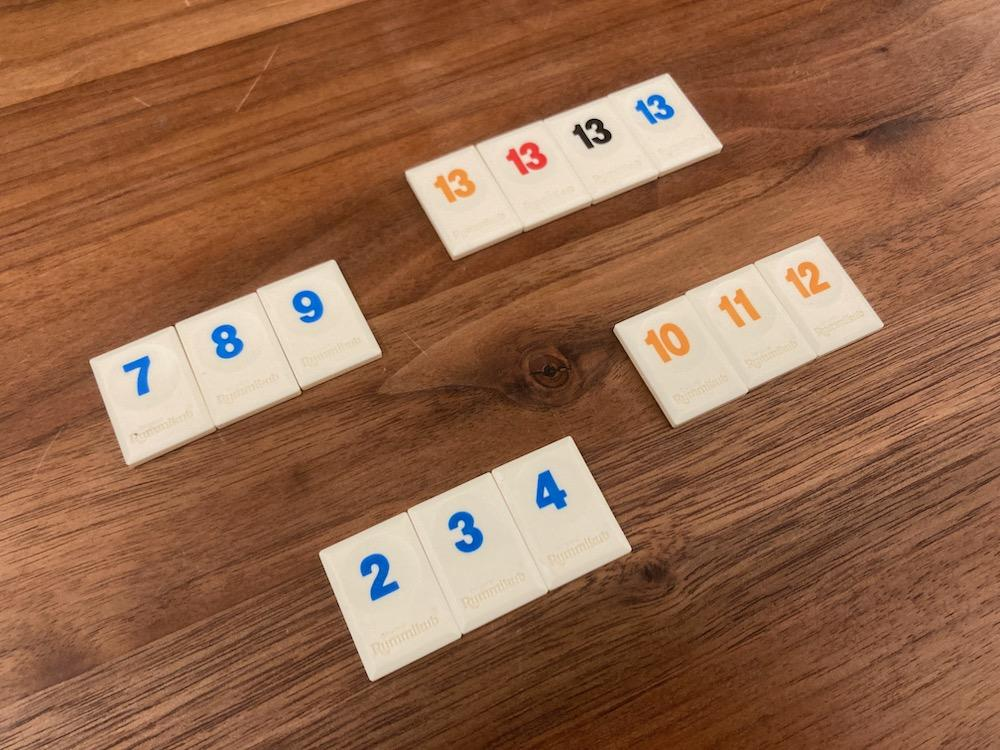black_13: (545, 100, 658, 202)
blue_13: (607, 74, 723, 175)
blue_2: (320, 514, 461, 680)
blue_3: (408, 473, 547, 633)
blue_4: (492, 436, 631, 589)
blue_7: (90, 326, 215, 466)
blue_8: (176, 293, 301, 427)
blue_9: (258, 260, 381, 388)
orange_10: (615, 297, 748, 427)
orange_11: (686, 266, 816, 389)
orange_12: (756, 236, 883, 354)
orange_13: (406, 146, 523, 259)
red_13: (477, 121, 592, 229)
